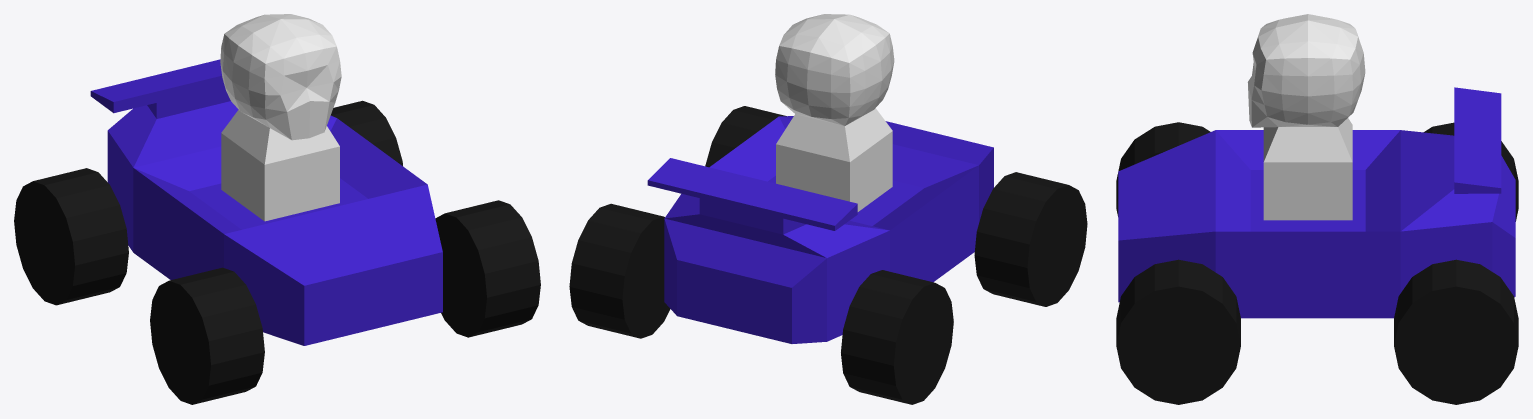
The model's file is dungeonkart.dae.
3 renders of one model, left to right at view 1: azimuth 30°, elevation 25°; view 2: azimuth 150°, elevation 25°; view 3: azimuth 270°, elevation 25°, orthographic. The views are drawn at different scales.
Visible parts, largest first — view 1: Cube, Cube_001, Cylinder_001, Cylinder, Cylinder_003, Cylinder_002; view 2: Cube, Cube_001, Cylinder, Cylinder_001, Cylinder_002, Cylinder_003; view 3: Cube, Cube_001, Cylinder_002, Cylinder_003, Cylinder, Cylinder_001.
Boxes of the visible parts, x1=… form: Cube: x1=90, y1=59, x2=442, y2=345; Cube_001: x1=220, y1=14, x2=341, y2=221; Cylinder_001: x1=14, y1=168, x2=128, y2=305; Cylinder: x1=150, y1=267, x2=264, y2=404; Cylinder_003: x1=435, y1=200, x2=540, y2=337; Cylinder_002: x1=331, y1=100, x2=402, y2=165; Cube: x1=647, y1=116, x2=993, y2=343; Cube_001: x1=775, y1=14, x2=894, y2=211; Cylinder: x1=974, y1=172, x2=1087, y2=306; Cylinder_001: x1=841, y1=270, x2=953, y2=404; Cylinder_002: x1=569, y1=203, x2=670, y2=338; Cylinder_003: x1=705, y1=106, x2=786, y2=167; Cube: x1=1118, y1=87, x2=1515, y2=318; Cube_001: x1=1247, y1=14, x2=1365, y2=220; Cylinder_002: x1=1394, y1=259, x2=1518, y2=404; Cylinder_003: x1=1116, y1=259, x2=1240, y2=404; Cylinder: x1=1116, y1=122, x2=1210, y2=216; Cylinder_001: x1=1424, y1=122, x2=1518, y2=221.
Size of the model in its own units: 4.2 by 4.35 by 3.6.
